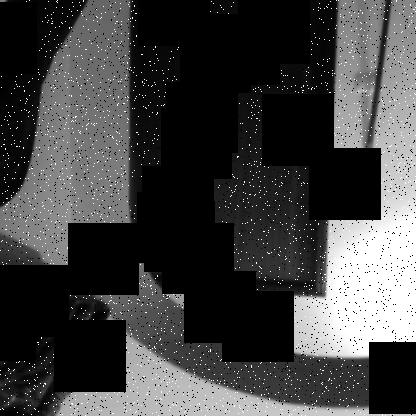Porte: (119, 1, 339, 298)
